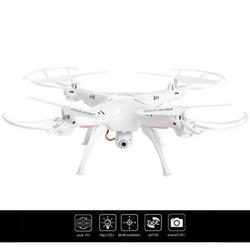drone: (1, 65, 249, 178)
